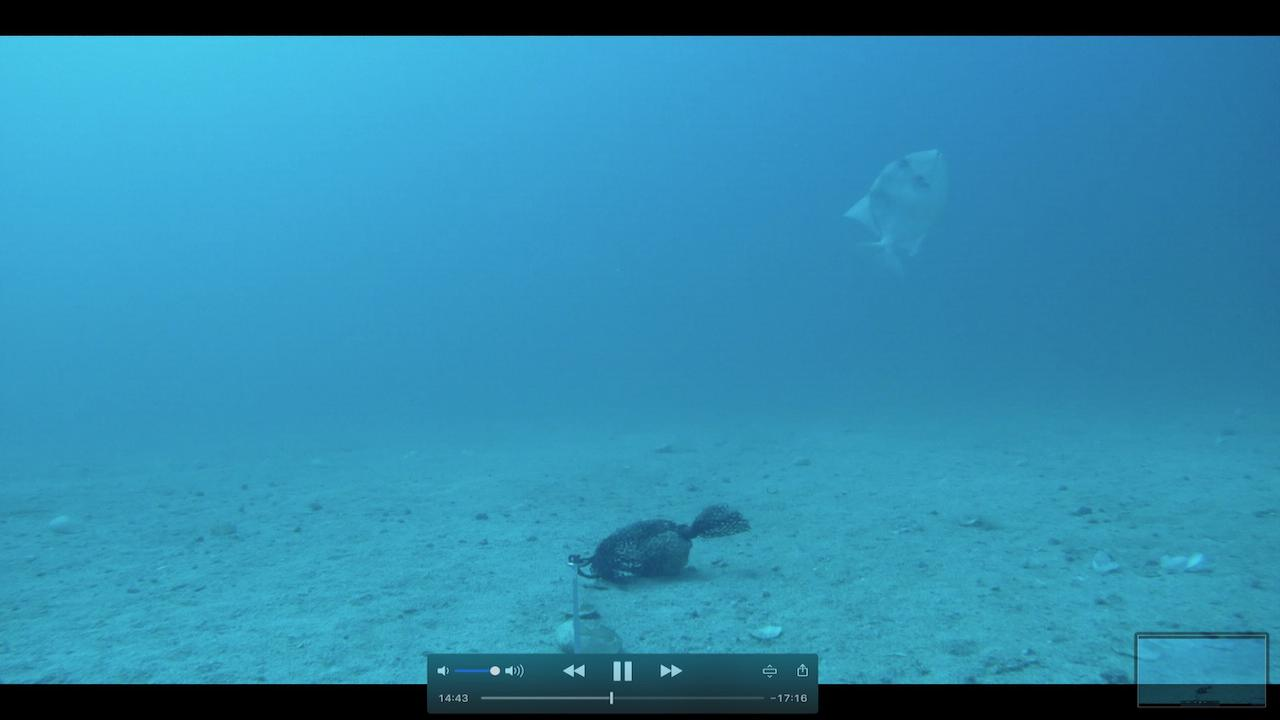balistes: (838, 142, 947, 286)
